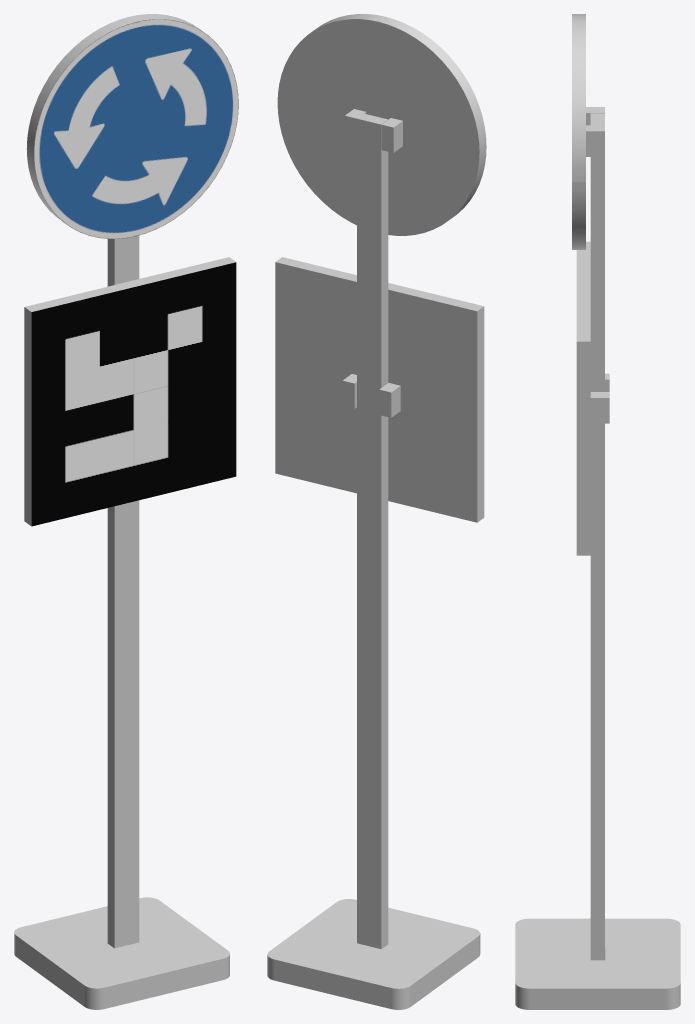
The model's file is rotonda_aruco.dae.
The picture shows the model from 3 angles, left to right: view 1: azimuth 30°, elevation 25°; view 2: azimuth 150°, elevation 25°; view 3: azimuth 270°, elevation 25°; orthographic projection.
Visible parts, largest first — view 1: d6f62f69-63cc-4c38-854e-ef7aaca41682, aa1976b7-246b-4d38-b049-b8f6e5cddfd7, abc04dcf-6e50-4e87-b7d3-70239a5a006b, a651a210-90d8-4e81-868e-74565a3cc439, a17fc133-8048-4ef5-8100-46bd3b28bbc2, aadcc6bf-6f33-41e5-bbaa-36f0d0fab7c0, aa1cbc41-ae89-4cdc-b548-cbe9aa625ecb; view 2: b0a5f292-e41c-420b-8330-669941003204, a5a7e766-e522-44a6-bd26-41b63cb9a2cd, abc04dcf-6e50-4e87-b7d3-70239a5a006b, a651a210-90d8-4e81-868e-74565a3cc439, a17fc133-8048-4ef5-8100-46bd3b28bbc2, aadcc6bf-6f33-41e5-bbaa-36f0d0fab7c0, aa1cbc41-ae89-4cdc-b548-cbe9aa625ecb, d508cf3b-042d-4e02-8643-4cc4eb2e87b4, ad522351-b8ff-42a3-8338-5571bc1ec18a; view 3: a651a210-90d8-4e81-868e-74565a3cc439, abc04dcf-6e50-4e87-b7d3-70239a5a006b, a17fc133-8048-4ef5-8100-46bd3b28bbc2, af5e3373-0cf5-49a6-b5bb-21bfbdf1ce4d, aa1cbc41-ae89-4cdc-b548-cbe9aa625ecb, a3510c4b-7b32-4152-a923-847451ccb7c1, adb8713d-23b8-410c-a6be-0aa8993d9687.
Part boxes in pixels (bbox=[...]): d6f62f69-63cc-4c38-854e-ef7aaca41682: bbox=[31, 262, 236, 526]; aa1976b7-246b-4d38-b049-b8f6e5cddfd7: bbox=[34, 19, 238, 238]; abc04dcf-6e50-4e87-b7d3-70239a5a006b: bbox=[107, 235, 139, 948]; a651a210-90d8-4e81-868e-74565a3cc439: bbox=[14, 897, 229, 1009]; a17fc133-8048-4ef5-8100-46bd3b28bbc2: bbox=[26, 14, 202, 221]; aadcc6bf-6f33-41e5-bbaa-36f0d0fab7c0: bbox=[24, 307, 31, 526]; aa1cbc41-ae89-4cdc-b548-cbe9aa625ecb: bbox=[25, 257, 235, 311]; b0a5f292-e41c-420b-8330-669941003204: bbox=[275, 262, 477, 522]; a5a7e766-e522-44a6-bd26-41b63cb9a2cd: bbox=[277, 19, 479, 235]; abc04dcf-6e50-4e87-b7d3-70239a5a006b: bbox=[357, 113, 388, 949]; a651a210-90d8-4e81-868e-74565a3cc439: bbox=[267, 899, 480, 1009]; a17fc133-8048-4ef5-8100-46bd3b28bbc2: bbox=[312, 14, 486, 218]; aadcc6bf-6f33-41e5-bbaa-36f0d0fab7c0: bbox=[477, 306, 484, 522]; aa1cbc41-ae89-4cdc-b548-cbe9aa625ecb: bbox=[275, 257, 483, 311]; d508cf3b-042d-4e02-8643-4cc4eb2e87b4: bbox=[379, 383, 400, 417]; ad522351-b8ff-42a3-8338-5571bc1ec18a: bbox=[381, 118, 402, 152]; a651a210-90d8-4e81-868e-74565a3cc439: bbox=[515, 918, 680, 1009]; abc04dcf-6e50-4e87-b7d3-70239a5a006b: bbox=[590, 113, 604, 960]; a17fc133-8048-4ef5-8100-46bd3b28bbc2: bbox=[572, 14, 585, 249]; af5e3373-0cf5-49a6-b5bb-21bfbdf1ce4d: bbox=[576, 341, 590, 555]; aa1cbc41-ae89-4cdc-b548-cbe9aa625ecb: bbox=[576, 241, 590, 341]; a3510c4b-7b32-4152-a923-847451ccb7c1: bbox=[590, 392, 609, 423]; adb8713d-23b8-410c-a6be-0aa8993d9687: bbox=[586, 125, 604, 156].
Size of the model in its own units: 0.05 by 0.035 by 0.222.
Materials: 2 (2 with a texture image).
